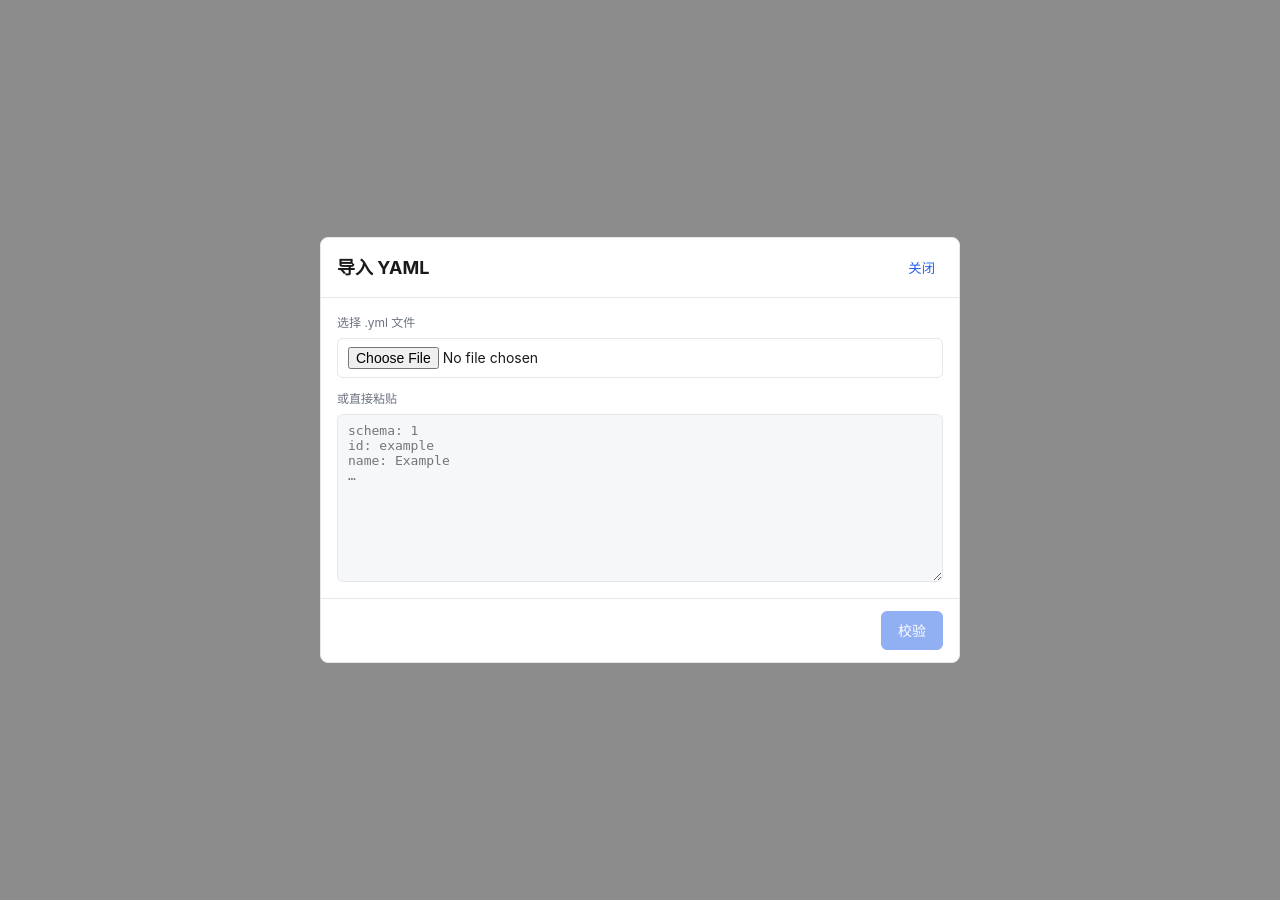
Test: ImportDialog › submits YAML and renders validation errors
Type "foo: bar" into the text box with placeholder "schema: 1 id: example name: Example …" at (640, 498), box [337,414,943,582]
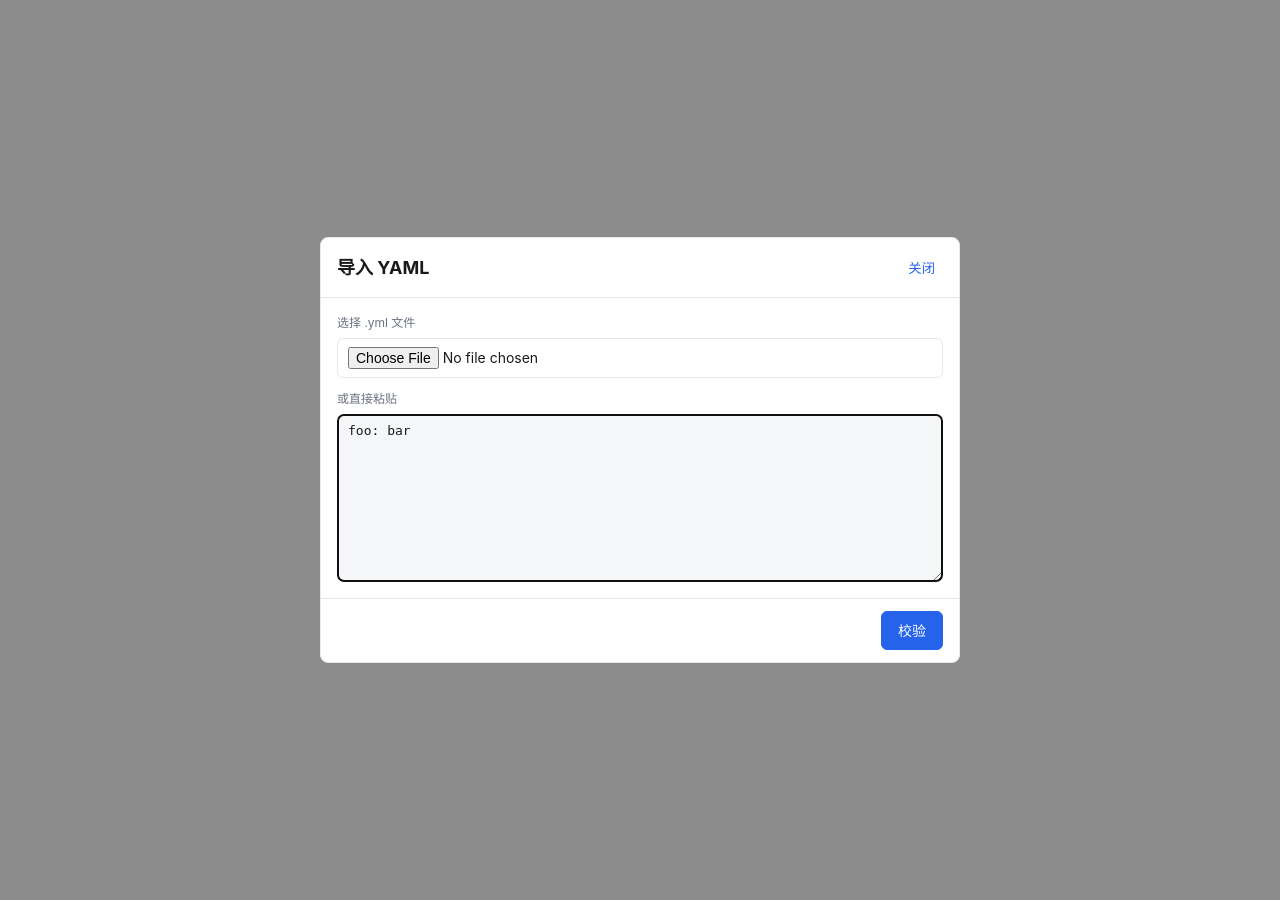
Click the button "校验" at (912, 630), box [881,611,943,650]
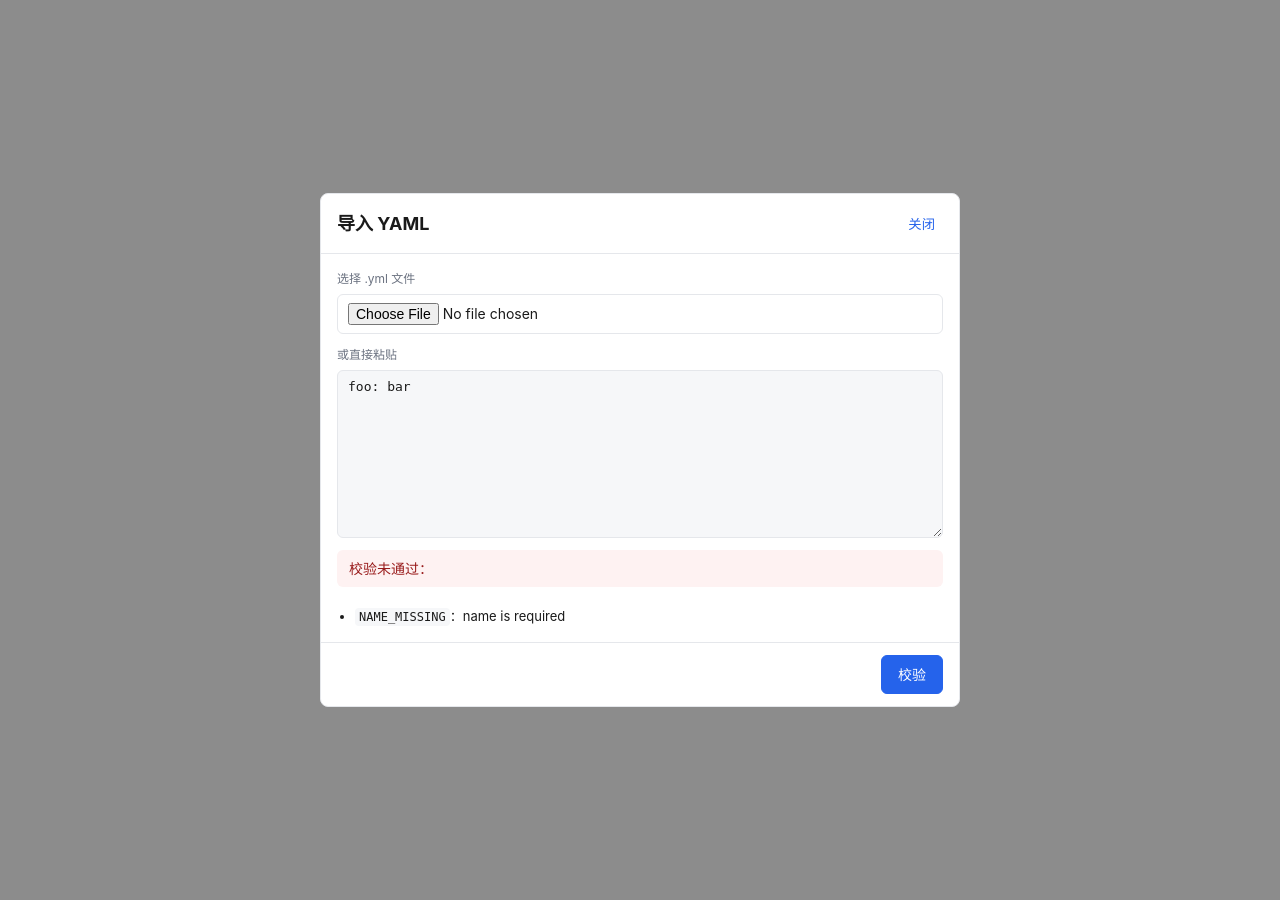
Now the text "NAME_MISSING" is shown, box [355,608,450,626]
